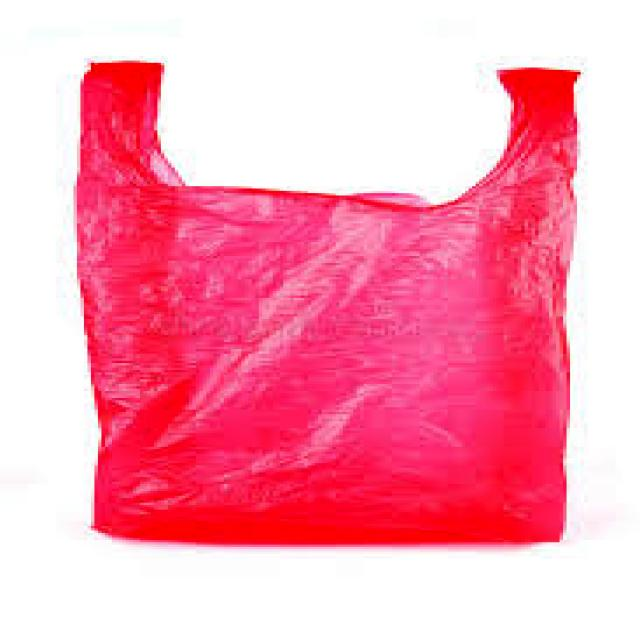plastic: (77, 65, 581, 545)
